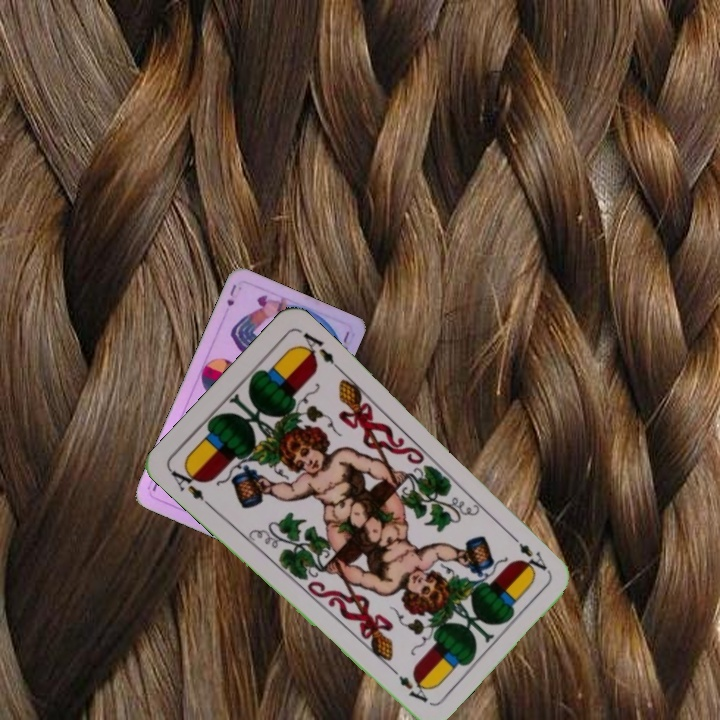EA: (167, 461, 214, 510), (504, 528, 550, 574)
SU: (223, 280, 239, 309)
